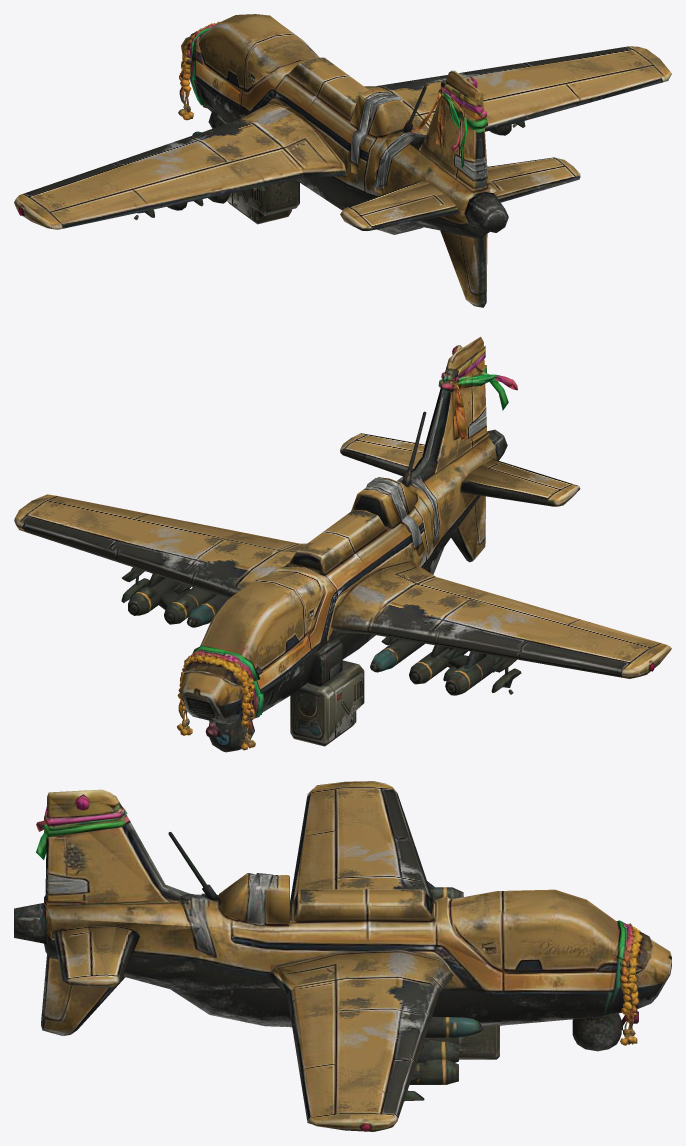
The picture shows the model from 3 angles, top to bottom: view 1: azimuth 30°, elevation 25°; view 2: azimuth 150°, elevation 25°; view 3: azimuth 270°, elevation 25°; orthographic projection. The views are drawn at different scales.
Parts seen in each view (by area): view 1: Body, Trim, Turret; view 2: Body, Trim, Turret; view 3: Body, Trim, Turret.
Part boxes in pixels (box(x1,y1,x2,y2)): Body: box(14, 14, 671, 307); Trim: box(14, 15, 669, 303); Turret: box(227, 179, 299, 224); Body: box(14, 342, 670, 752); Trim: box(16, 336, 671, 750); Turret: box(290, 671, 364, 746); Body: box(14, 785, 671, 1131); Trim: box(44, 781, 671, 1130); Turret: box(424, 1025, 499, 1059).
Size of the model in its own units: 7.7 by 2.94 by 6.28.
2 materials, 2 textured.
